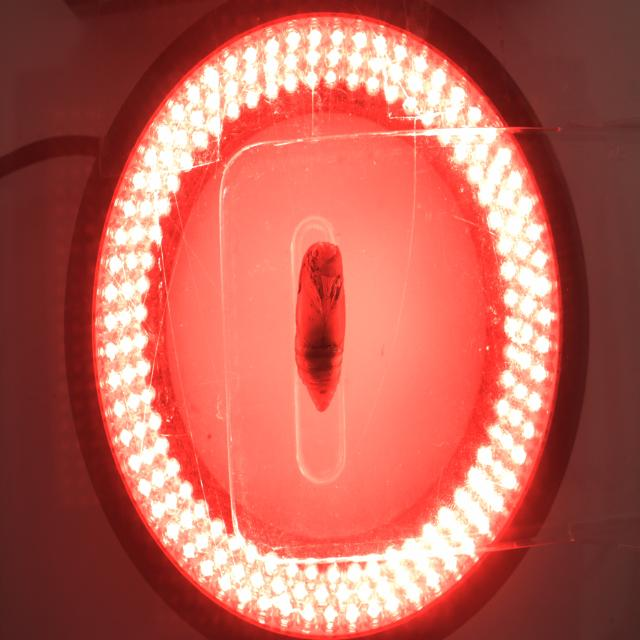male: (319, 389, 328, 396)
